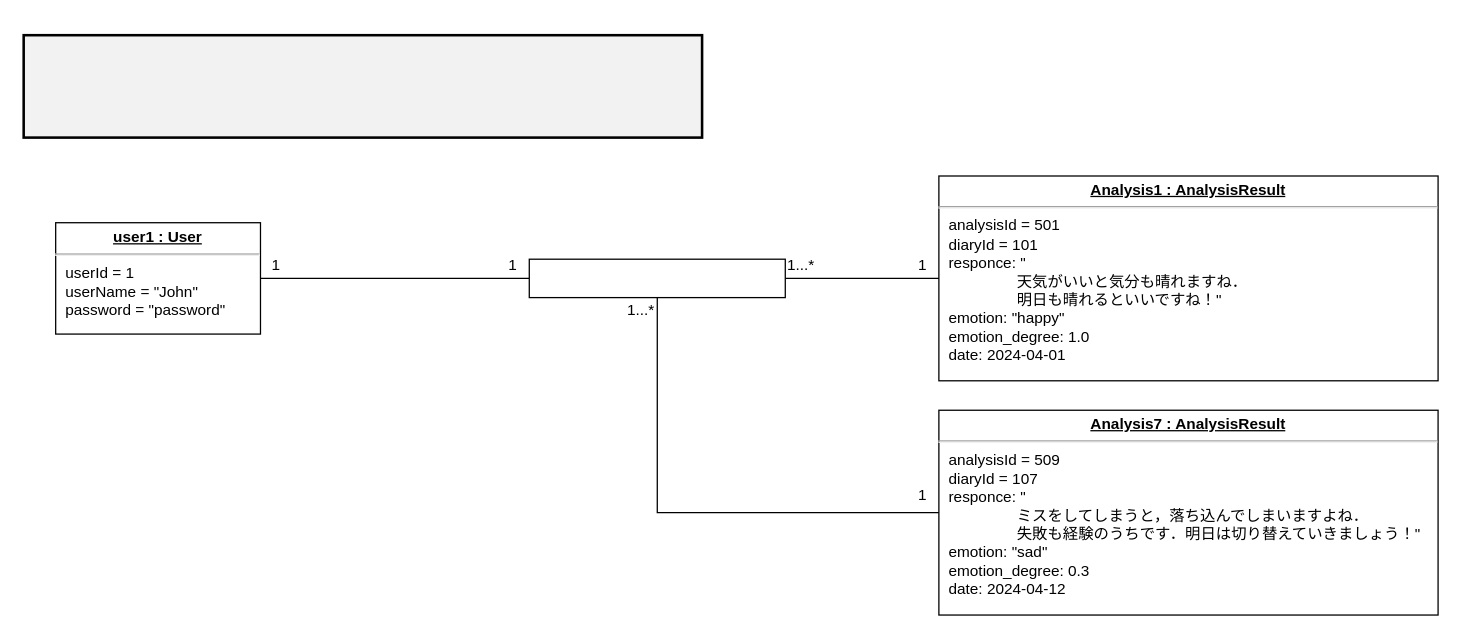
Image size: 1460x637. Some labels were removed from this diagram. The shapes that lost their labels are listed below. From the top down, each one's box as (x1, y1, x2, y2) in pixels, then its label:
(22, 33, 703, 138): シナリオ ($_003) Userである"John"は今まで自分が記録した日記（シナリオ$_001）の感情分析結果を閲覧する．
(528, 258, 785, 298): analysis : 感情分析結果を見る
